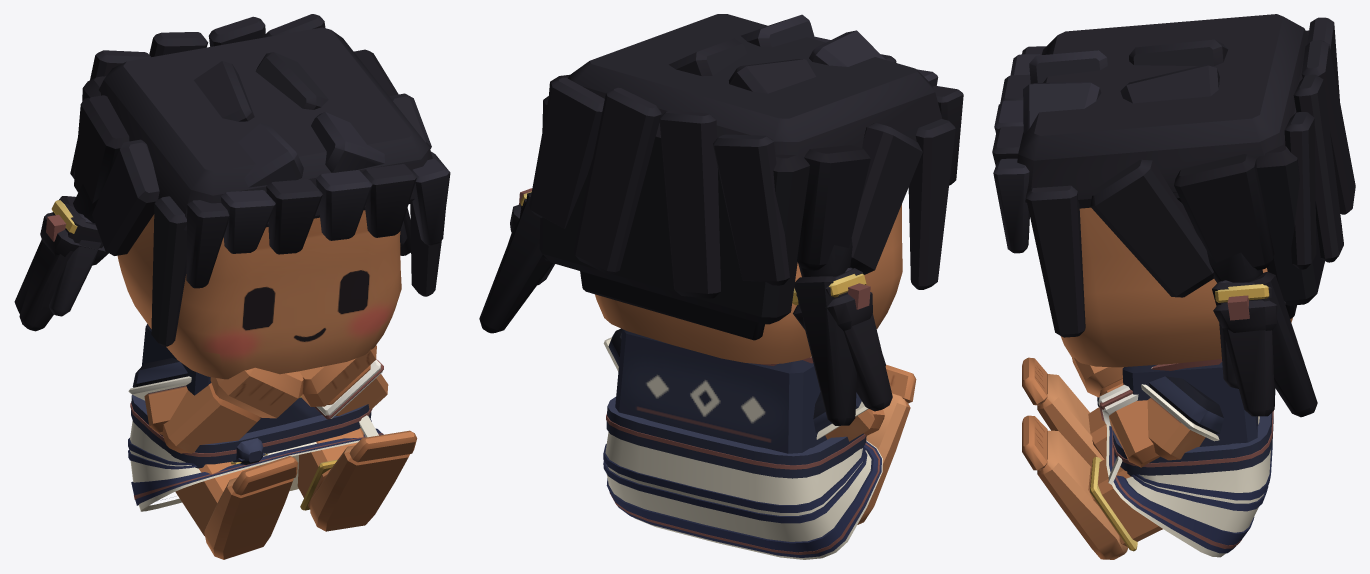
Rendered from audience_v2_girl_sit.glb.
The picture shows the model from 3 angles, left to right: view 1: azimuth 30°, elevation 25°; view 2: azimuth 150°, elevation 25°; view 3: azimuth 270°, elevation 25°; orthographic projection. The views are drawn at different scales.
Parts seen in each view (by area): view 1: audience_v2_girl_sit; view 2: audience_v2_girl_sit; view 3: audience_v2_girl_sit.
Part boxes in pixels (x1=…): audience_v2_girl_sit: x1=14, y1=14, x2=450, y2=559; audience_v2_girl_sit: x1=479, y1=14, x2=963, y2=559; audience_v2_girl_sit: x1=992, y1=14, x2=1355, y2=559.
Size of the model in its own units: 0.5517 by 0.6259 by 0.4339.
1 material, 1 textured.
